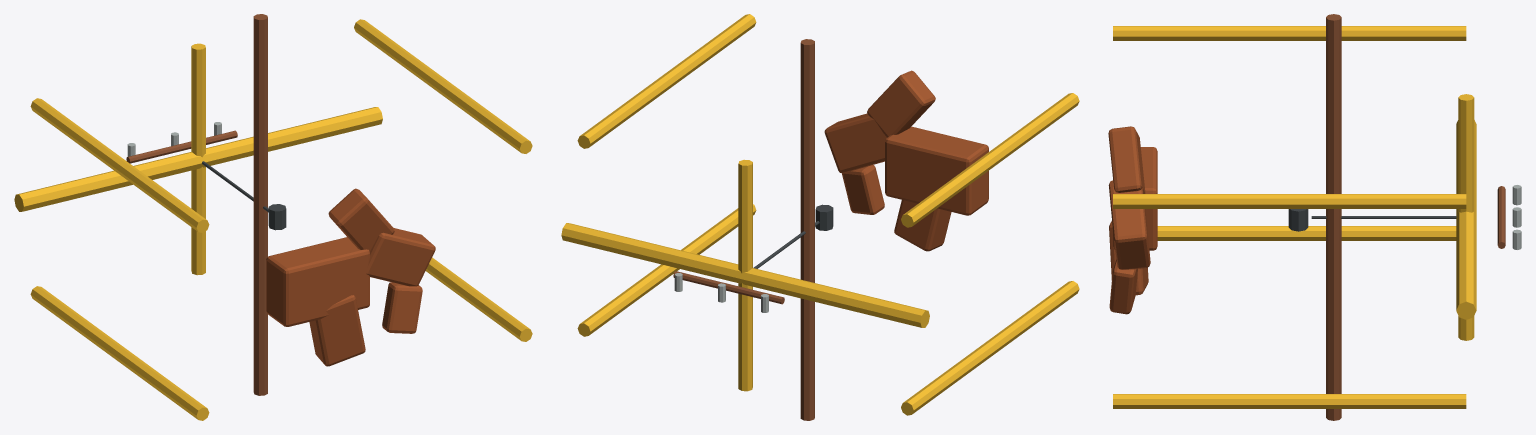
The model's file is pf_scrap_valley_props.glb.
3 renders of one model, left to right at view 1: azimuth 30°, elevation 25°; view 2: azimuth 150°, elevation 25°; view 3: azimuth 270°, elevation 25°, orthographic. The views are drawn at different scales.
Parts seen in each view (by area): view 1: scrap_bale, gantry_top, power_pole, gantry_leg.001, gantry_leg.003, gantry_leg, gantry_beam, scrap_bale.001, scrap_bale.003, scrap_bale.002, gantry_leg.002, scrap_bale.004 (+1 smaller); view 2: gantry_top, scrap_bale, power_pole, gantry_leg.001, gantry_leg, gantry_leg.003, gantry_beam, gantry_leg.002, scrap_bale.001, scrap_bale.002, scrap_bale.003, scrap_bale.004 (+1 smaller); view 3: power_pole, gantry_leg.002, gantry_leg.003, gantry_leg.001, gantry_leg, gantry_top, scrap_bale.001, gantry_beam, scrap_bale.002, scrap_bale, scrap_bale.004, crossarm (+3 smaller).
Boxes of the visible parts, left/top/right/bottom form: scrap_bale: left=266, top=237, right=369, bottom=326; gantry_top: left=14, top=107, right=382, bottom=211; power_pole: left=253, top=14, right=267, bottom=395; gantry_leg.001: left=30, top=98, right=209, bottom=232; gantry_leg.003: left=354, top=19, right=532, bottom=153; gantry_leg: left=30, top=286, right=209, bottom=420; gantry_beam: left=191, top=43, right=205, bottom=275; scrap_bale.001: left=366, top=228, right=435, bottom=286; scrap_bale.003: left=309, top=295, right=365, bottom=366; scrap_bale.002: left=328, top=188, right=394, bottom=251; gantry_leg.002: left=425, top=257, right=532, bottom=341; scrap_bale.004: left=382, top=282, right=422, bottom=333; gantry_top: left=561, top=223, right=929, bottom=327; scrap_bale: left=885, top=126, right=988, bottom=215; power_pole: left=800, top=39, right=814, bottom=420; gantry_leg.001: left=901, top=93, right=1079, bottom=227; gantry_leg: left=901, top=281, right=1079, bottom=415; gantry_leg.003: left=577, top=14, right=756, bottom=148; gantry_beam: left=738, top=159, right=752, bottom=391; gantry_leg.002: left=577, top=204, right=756, bottom=336; scrap_bale.001: left=824, top=113, right=886, bottom=173; scrap_bale.002: left=867, top=70, right=935, bottom=137; scrap_bale.003: left=894, top=200, right=951, bottom=251; scrap_bale.004: left=841, top=165, right=884, bottom=214; power_pole: left=1326, top=14, right=1341, bottom=420; gantry_leg.002: left=1113, top=394, right=1466, bottom=408; gantry_leg.003: left=1113, top=194, right=1466, bottom=208; gantry_leg.001: left=1113, top=26, right=1466, bottom=40; gantry_leg: left=1157, top=226, right=1456, bottom=240; gantry_top: left=1456, top=120, right=1476, bottom=319; scrap_bale.001: left=1108, top=180, right=1150, bottom=269; gantry_beam: left=1458, top=94, right=1474, bottom=340; scrap_bale.002: left=1108, top=126, right=1145, bottom=193; scrap_bale: left=1113, top=147, right=1157, bottom=250; scrap_bale.004: left=1109, top=259, right=1137, bottom=314; crossarm: left=1497, top=186, right=1505, bottom=248.
Bounding box in the file's own units: 10 × 10 × 9.35.
